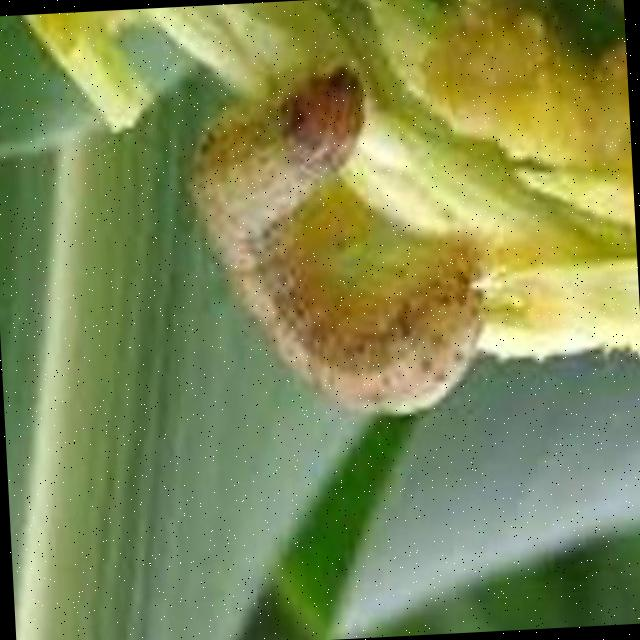worm: (172, 48, 502, 430)
